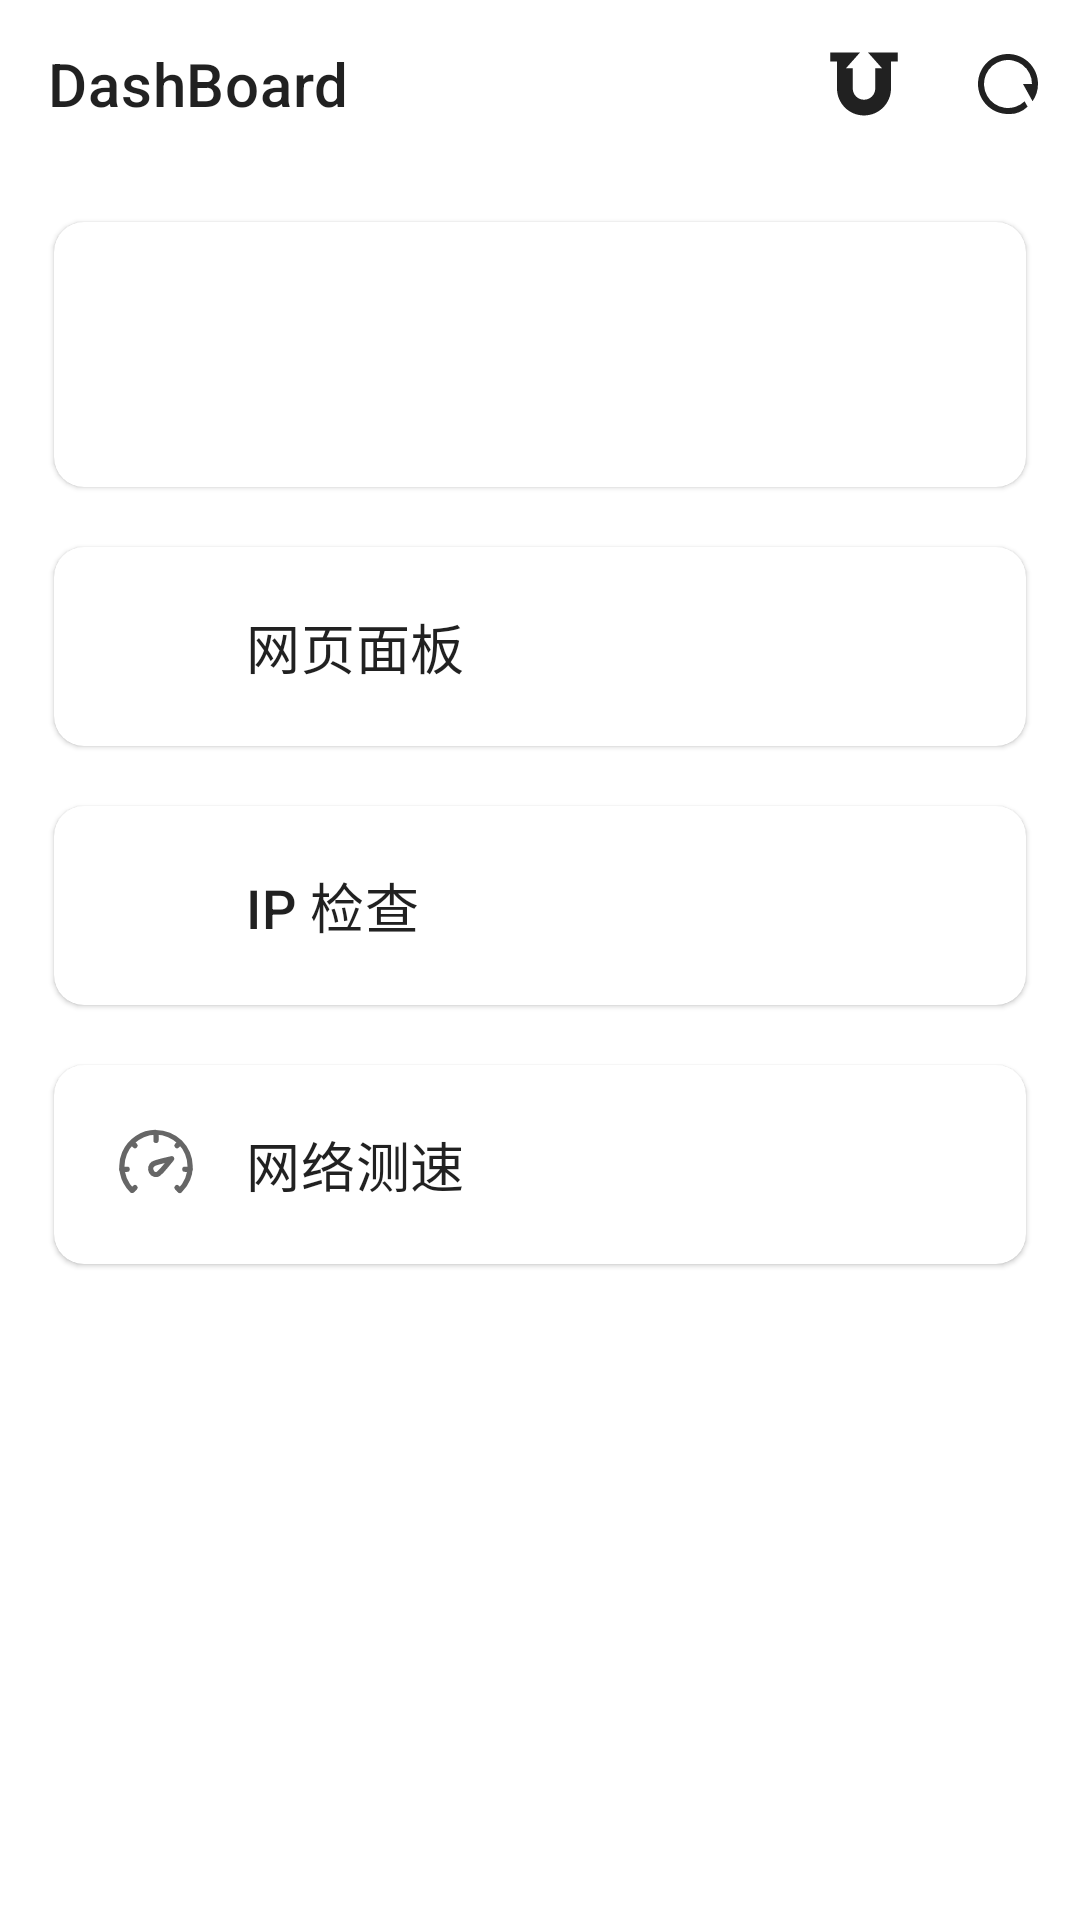

Icons on this 1080 × 1920 Android screen, each with the point to tap as (x,y):
speed: (156,1161)
